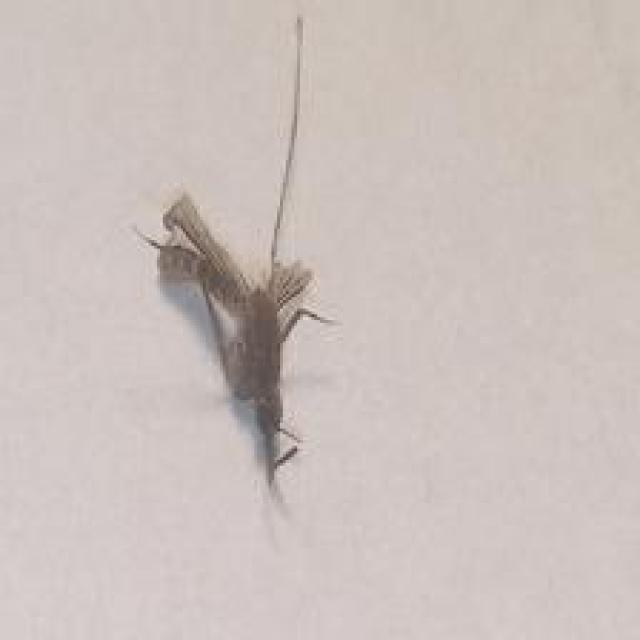Culex: (132, 14, 337, 500)
